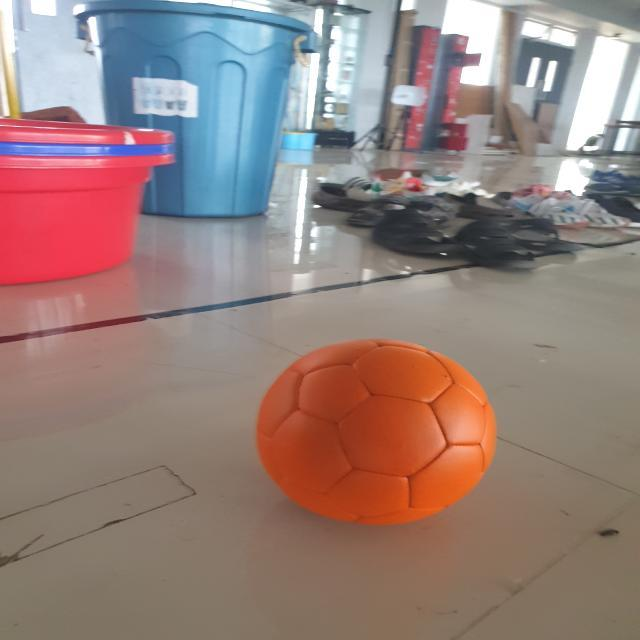bola: (251, 338, 501, 528)
